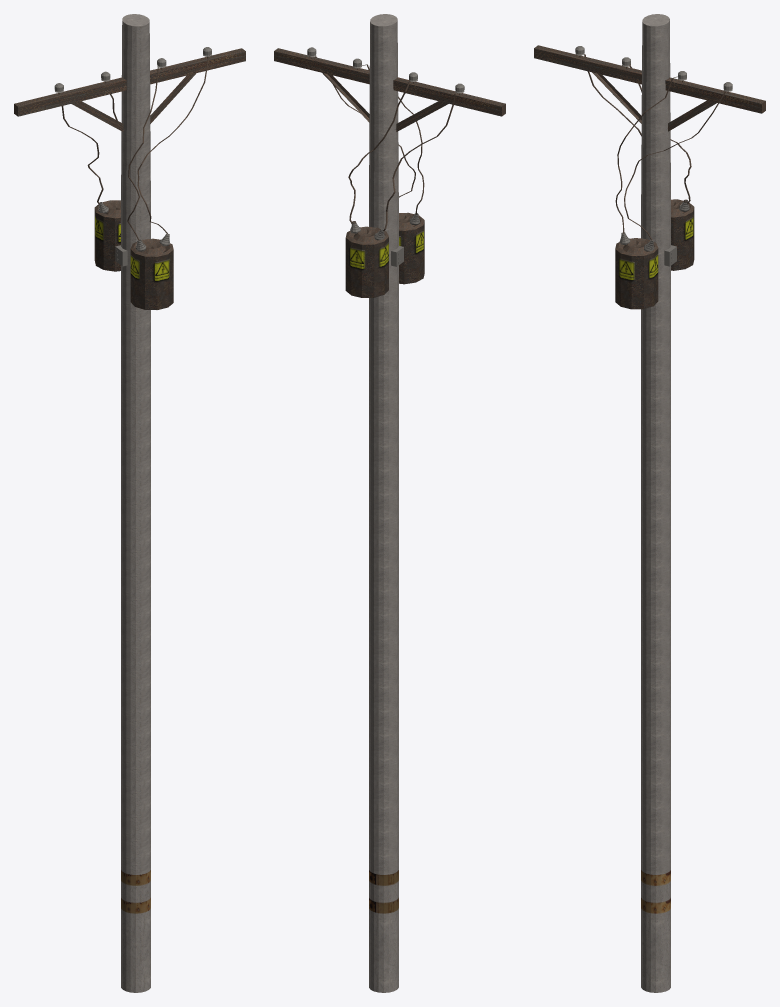
File: vgntelepole1.obj
3 views of the same model, side by side, from view 1: azimuth 30°, elevation 25°; view 2: azimuth 150°, elevation 25°; view 3: azimuth 330°, elevation 25° (orthographic).
Visible parts, largest first — view 1: vgntelepole1; view 2: vgntelepole1; view 3: vgntelepole1.
Boxes of the visible parts, bbox=[...] form: vgntelepole1: bbox=[14, 14, 245, 992]; vgntelepole1: bbox=[274, 14, 505, 992]; vgntelepole1: bbox=[534, 14, 765, 992].
Size of the model in its own units: 3.7 by 15 by 1.6.
8 materials, 8 textured.
